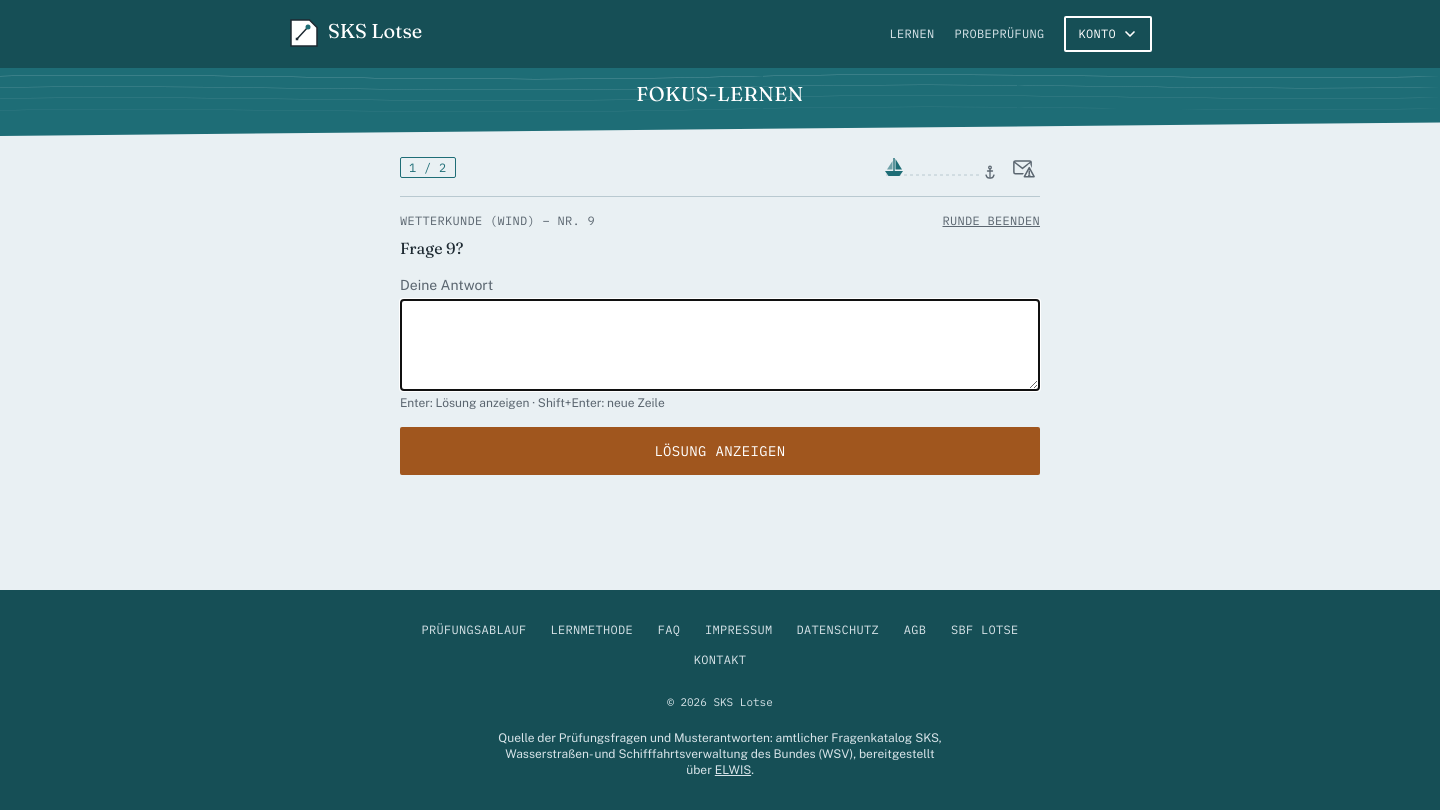
Scenario: FocusPracticePage › plays the questions in the order the server sent, across topics
This screenshot has width=1440, height=810.
expect the heading "Frage 9?" is shown: met, box [400,238,464,258]
expect the text "Wetterkunde (Wind) – Nr. 9" is shown: met, box [400,213,595,229]
Click the button "Lösung anzeigen" at (720, 451), box [400,427,1040,475]
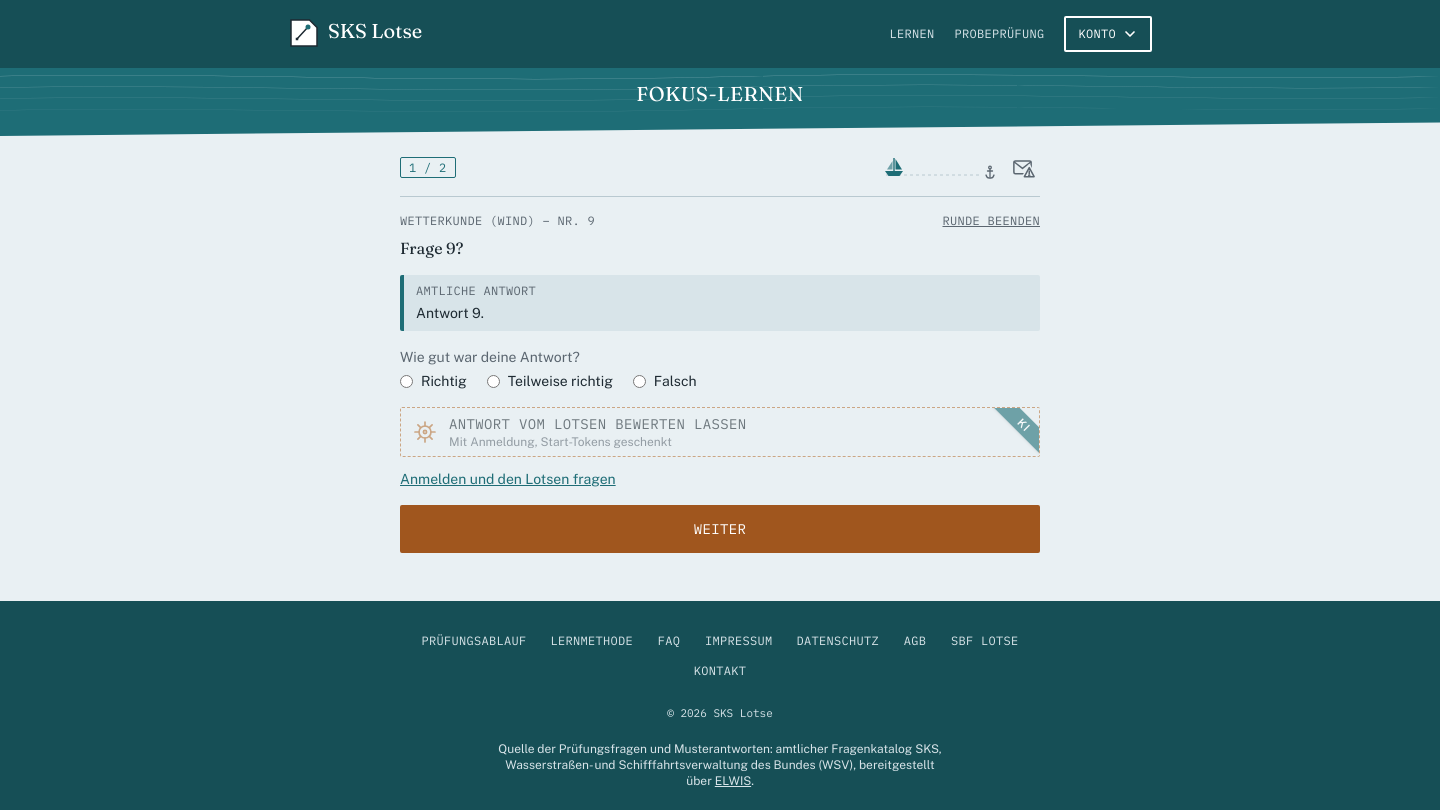
Click the radio button labelled "Richtig" at (406, 381), box [400,374,413,388]
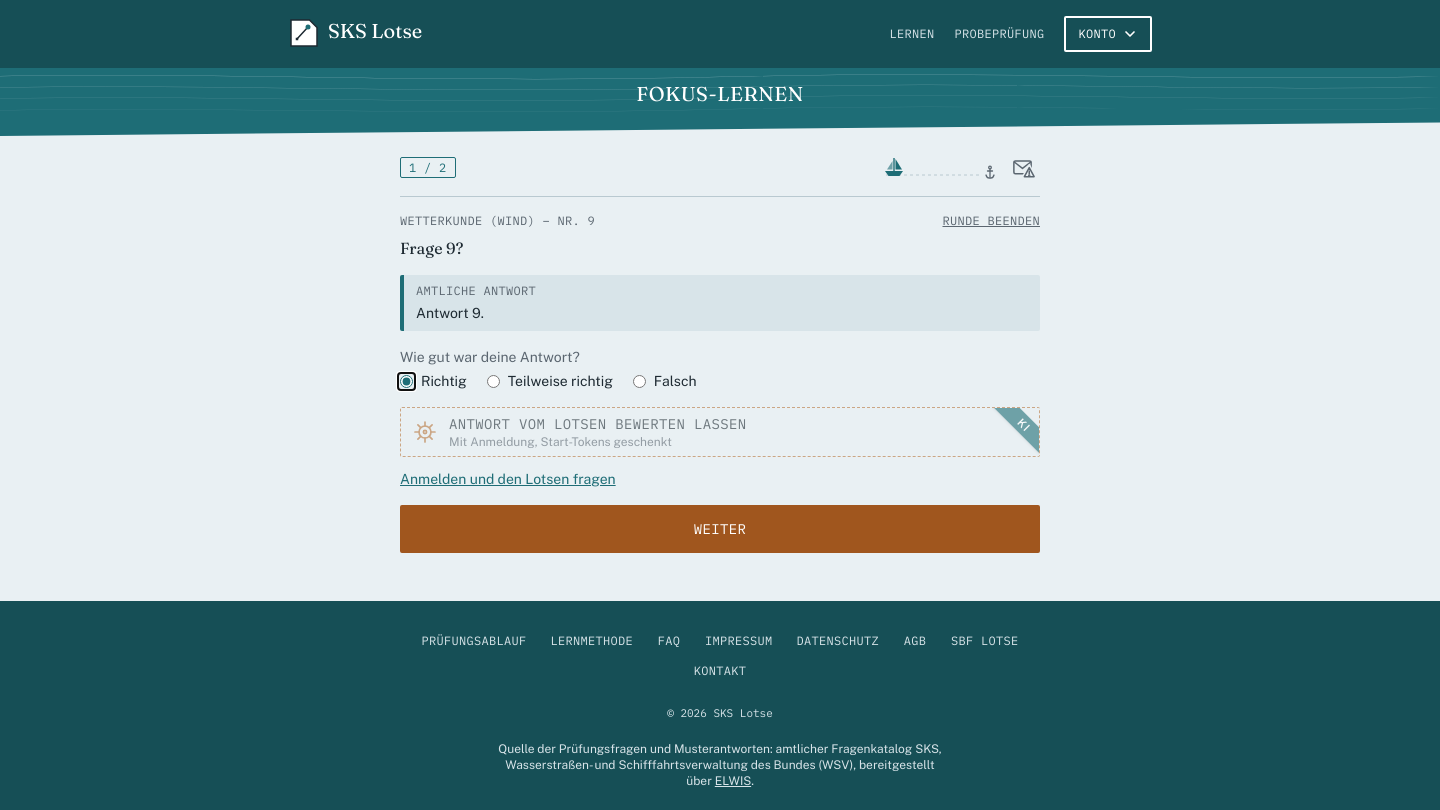
Click the button "Weiter" at (720, 529), box [400,505,1040,553]
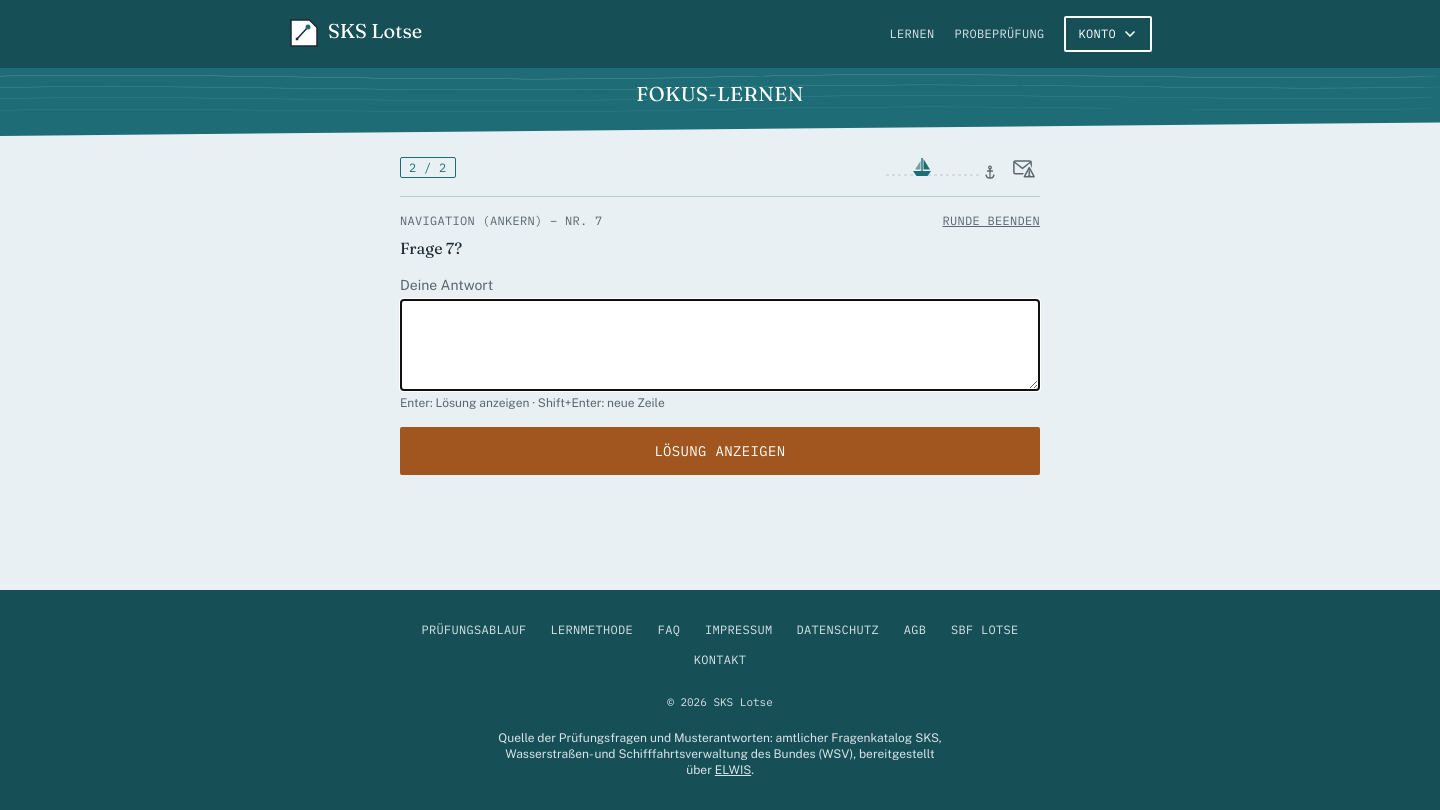
expect the heading "Frage 7?" is shown: met, box [400,238,462,258]
expect the text "Navigation (Ankern) – Nr. 7" is shown: met, box [400,213,603,229]
